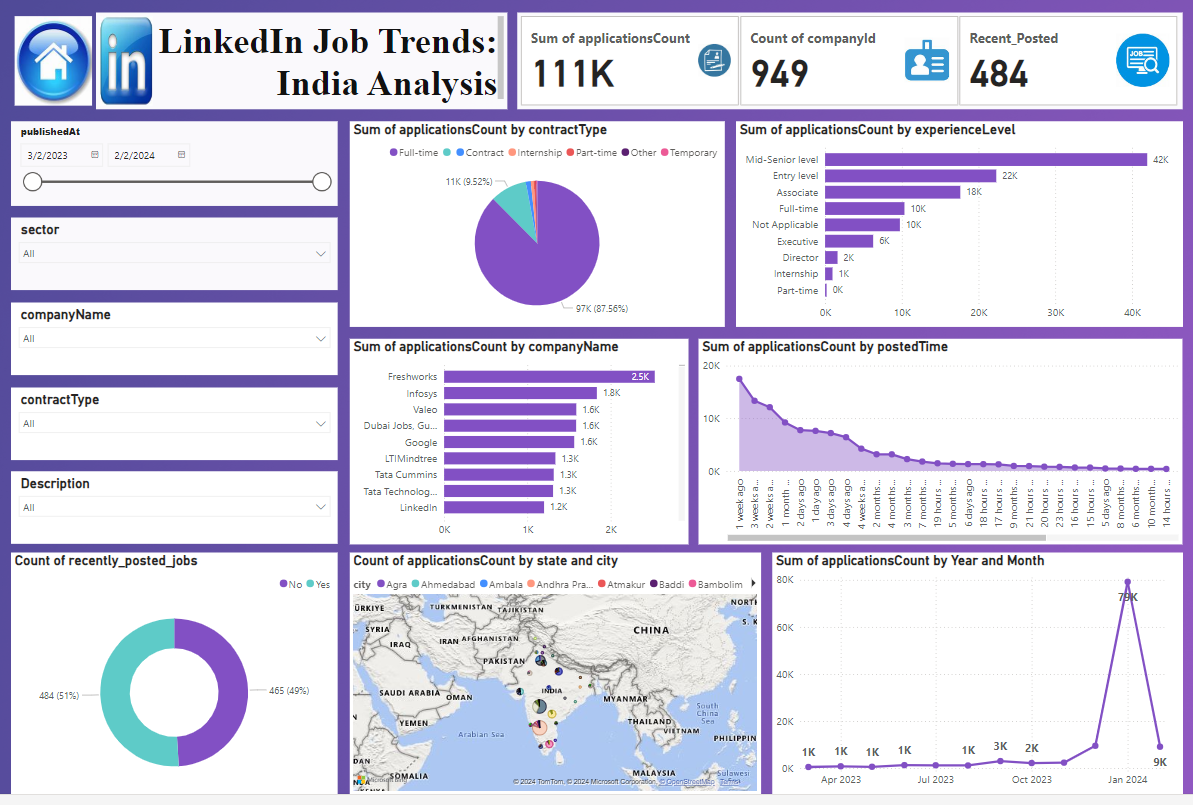

The dashboard page shown, as its layout file describes it:
{"tool":"powerbi","page":{"name":"Linkedin1","canvas":[1550,1050],"ordinal":0},"visuals":[{"type":"lineChart","fields":{"Y":["Sum(LinkedIn_Jobs_Data_India.applicationsCount)"],"Category":["LinkedIn_Jobs_Data_India.publishedAt.Variation.Date Hierarchy.Year","LinkedIn_Jobs_Data_India.publishedAt.Variation.Date Hierarchy.Month"]},"box":[1006,730,544,320],"z":0},{"type":"barChart","fields":{"Category":["LinkedIn_Jobs_Data_India.companyName"],"Y":["Sum(LinkedIn_Jobs_Data_India.applicationsCount)"]},"box":[448,448,448,272],"z":1000},{"type":"barChart","fields":{"Category":["LinkedIn_Jobs_Data_India.experienceLevel"],"Y":["Sum(LinkedIn_Jobs_Data_India.applicationsCount)"]},"box":[958,160,592,272],"z":2000},{"type":"donutChart","title":"Count of recently_posted_jobs","fields":{"Category":["LinkedIn_Jobs_Data_India.recently_posted_jobs"],"Y":["CountNonNull(LinkedIn_Jobs_Data_India.recently_posted_jobs)"]},"box":[0,730,432,320],"z":3000},{"type":"cardVisual","fields":{"Data":["Sum(LinkedIn_Jobs_Data_India.applicationsCount)","CountNonNull(LinkedIn_Jobs_Data_India.companyId)","LinkedIn_Jobs_Data_India.Recent_Posted"]},"box":[670,16,880,128],"z":4000},{"type":"slicer","fields":{"Values":["LinkedIn_Jobs_Data_India.sector"]},"box":[0,288,432,96],"z":5000},{"type":"slicer","fields":{"Values":["LinkedIn_Jobs_Data_India.companyName"]},"box":[0,400,432,96],"z":6000},{"type":"slicer","fields":{"Values":["LinkedIn_Jobs_Data_India.contractType"]},"box":[0,512,432,96],"z":7000},{"type":"slicer","fields":{"Values":["LinkedIn_Jobs_Data_India.description"]},"box":[0,624,432,96],"z":8000},{"type":"slicer","fields":{"Values":["LinkedIn_Jobs_Data_India.publishedAt"]},"box":[0,160,432,112],"z":9000},{"type":"textbox","box":[112,16,544,128],"z":10000},{"type":"map","fields":{"Category":["LinkedIn_Jobs_Data_India.state"],"Series":["LinkedIn_Jobs_Data_India.city"],"Size":["CountNonNull(LinkedIn_Jobs_Data_India.applicationsCount)"]},"box":[448,730,544,320],"z":11000},{"type":"areaChart","fields":{"Category":["LinkedIn_Jobs_Data_India.postedTime"],"Y":["Sum(LinkedIn_Jobs_Data_India.applicationsCount)"]},"box":[910,448,640,272],"z":12000},{"type":"pieChart","fields":{"Category":["LinkedIn_Jobs_Data_India.contractType"],"Y":["Sum(LinkedIn_Jobs_Data_India.applicationsCount)"]},"box":[448,160,496,272],"z":13000},{"type":"image","box":[112,16,80,128],"z":14000},{"type":"image","box":[0,16,112,128],"z":15000}]}

Visuals, with their boxes in screenshot pixels (x1, y1, x2, y2), scaled from the page's 1550x1050 canvas onto the 1193x805 screenshot:
lineChart - Sum(LinkedIn_Jobs_Data_India.applicationsCount) x LinkedIn_Jobs_Data_India.publishedAt.Variation.Date Hierarchy.Year: select_region(774, 560, 1192, 804)
barChart - LinkedIn_Jobs_Data_India.companyName x Sum(LinkedIn_Jobs_Data_India.applicationsCount): select_region(345, 343, 690, 552)
barChart - LinkedIn_Jobs_Data_India.experienceLevel x Sum(LinkedIn_Jobs_Data_India.applicationsCount): select_region(737, 123, 1192, 331)
"Count of recently_posted_jobs" donutChart: select_region(0, 560, 333, 804)
cardVisual - Sum(LinkedIn_Jobs_Data_India.applicationsCount) x CountNonNull(LinkedIn_Jobs_Data_India.companyId): select_region(516, 12, 1192, 110)
slicer - LinkedIn_Jobs_Data_India.sector: select_region(0, 221, 333, 294)
slicer - LinkedIn_Jobs_Data_India.companyName: select_region(0, 307, 333, 380)
slicer - LinkedIn_Jobs_Data_India.contractType: select_region(0, 393, 333, 466)
slicer - LinkedIn_Jobs_Data_India.description: select_region(0, 478, 333, 552)
slicer - LinkedIn_Jobs_Data_India.publishedAt: select_region(0, 123, 333, 209)
textbox: select_region(86, 12, 505, 110)
map - LinkedIn_Jobs_Data_India.state x LinkedIn_Jobs_Data_India.city: select_region(345, 560, 764, 804)
areaChart - LinkedIn_Jobs_Data_India.postedTime x Sum(LinkedIn_Jobs_Data_India.applicationsCount): select_region(700, 343, 1192, 552)
pieChart - LinkedIn_Jobs_Data_India.contractType x Sum(LinkedIn_Jobs_Data_India.applicationsCount): select_region(345, 123, 727, 331)
image: select_region(86, 12, 148, 110)
image: select_region(0, 12, 86, 110)
